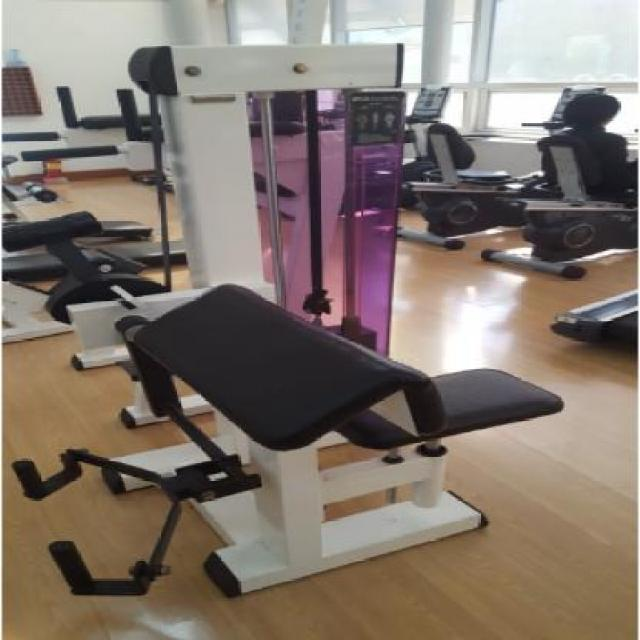arm curl machine: (17, 283, 571, 600)
